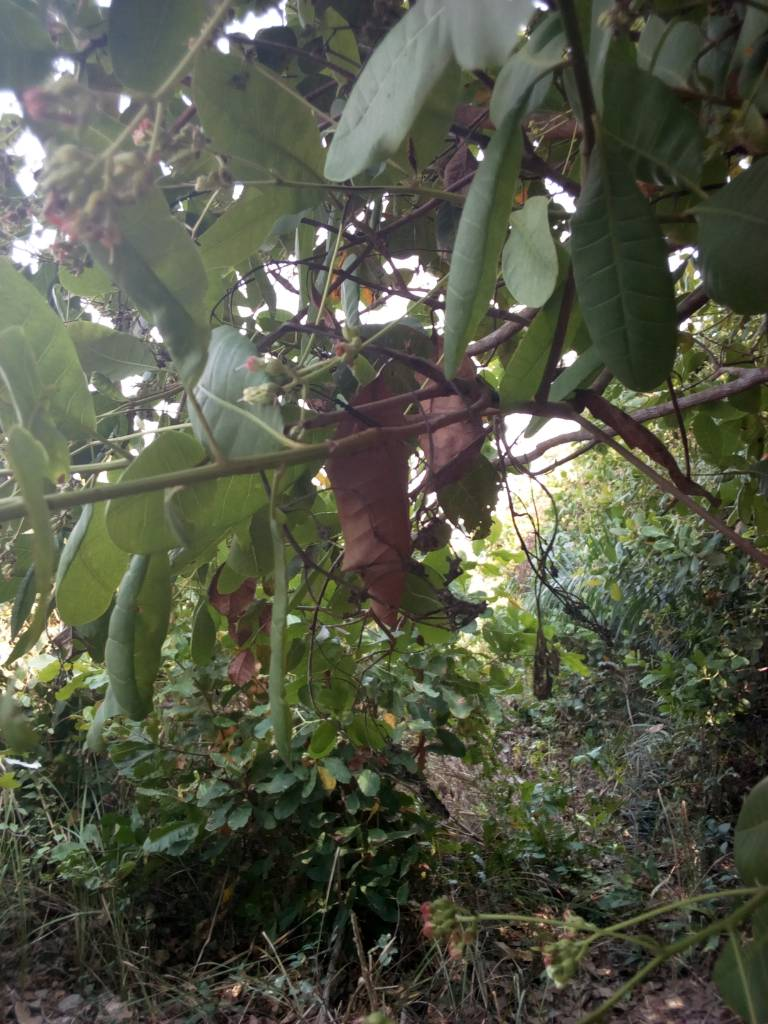Dessèchement des bourgeons: (329, 419, 483, 646), (505, 475, 607, 705)
